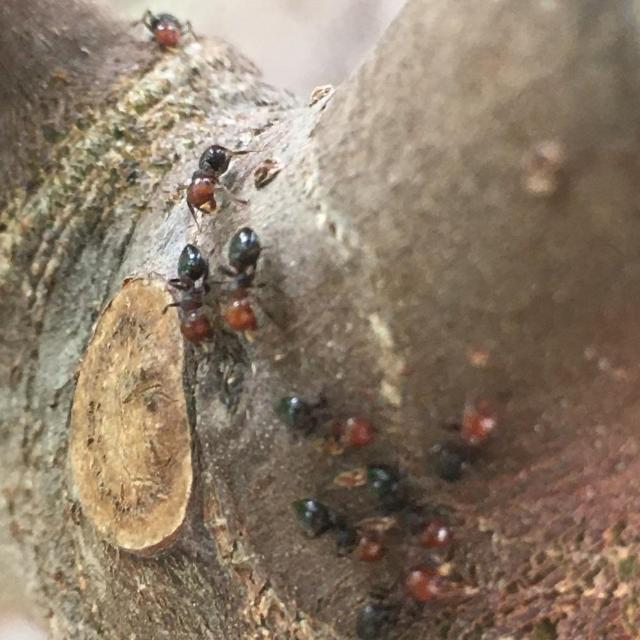Crematogaster: (346, 563, 472, 639), (276, 495, 396, 563), (424, 390, 504, 490), (217, 213, 279, 341), (149, 240, 213, 354), (364, 464, 451, 546), (284, 386, 374, 454), (180, 138, 246, 212), (131, 6, 193, 56)
